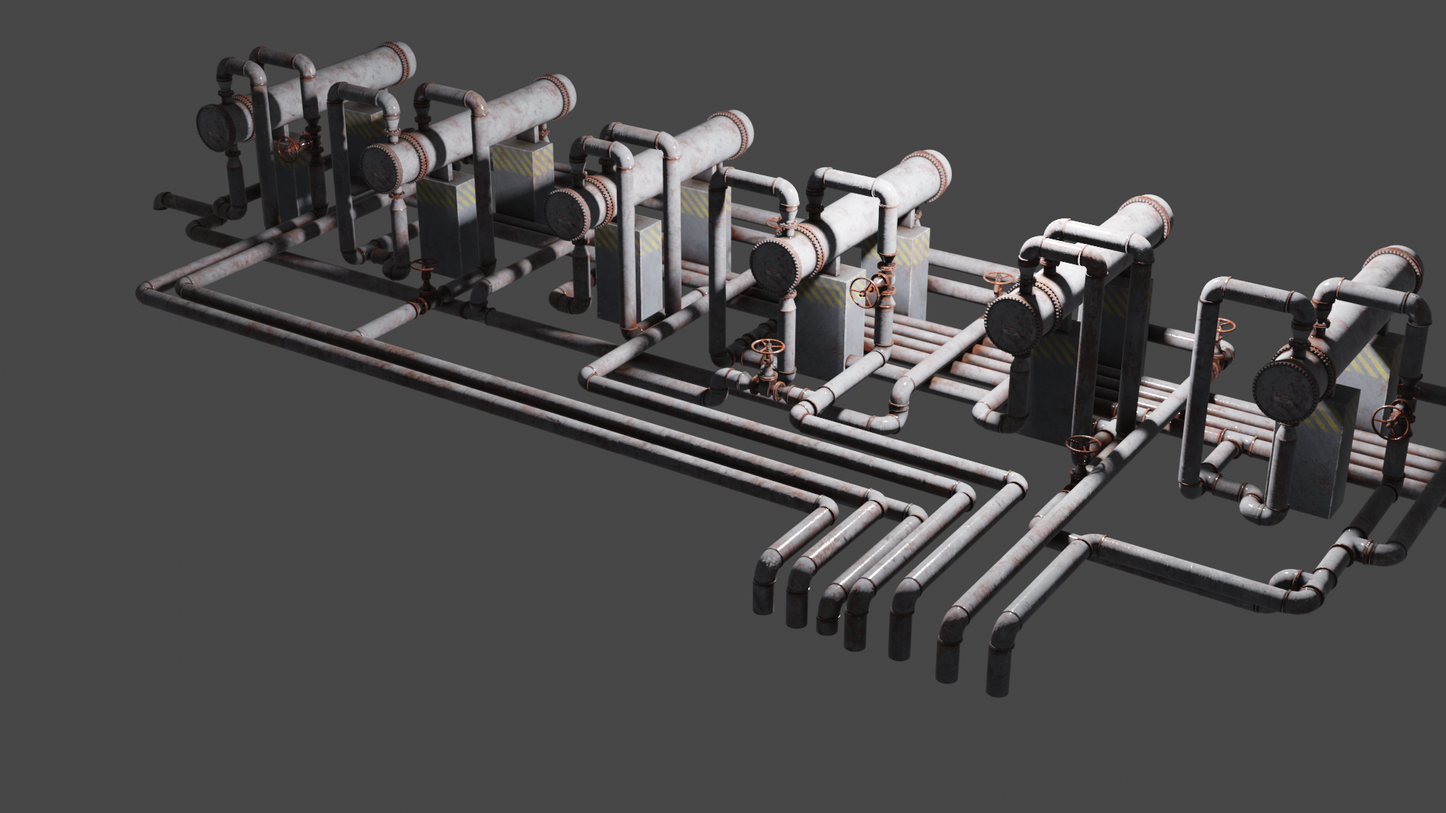HE_1: (189, 43, 413, 150)
HE_2: (353, 74, 578, 192)
HE_3: (546, 103, 759, 237)
HE_4: (750, 148, 949, 294)
HE_5: (985, 191, 1172, 352)
HE_6: (1253, 248, 1422, 425)
